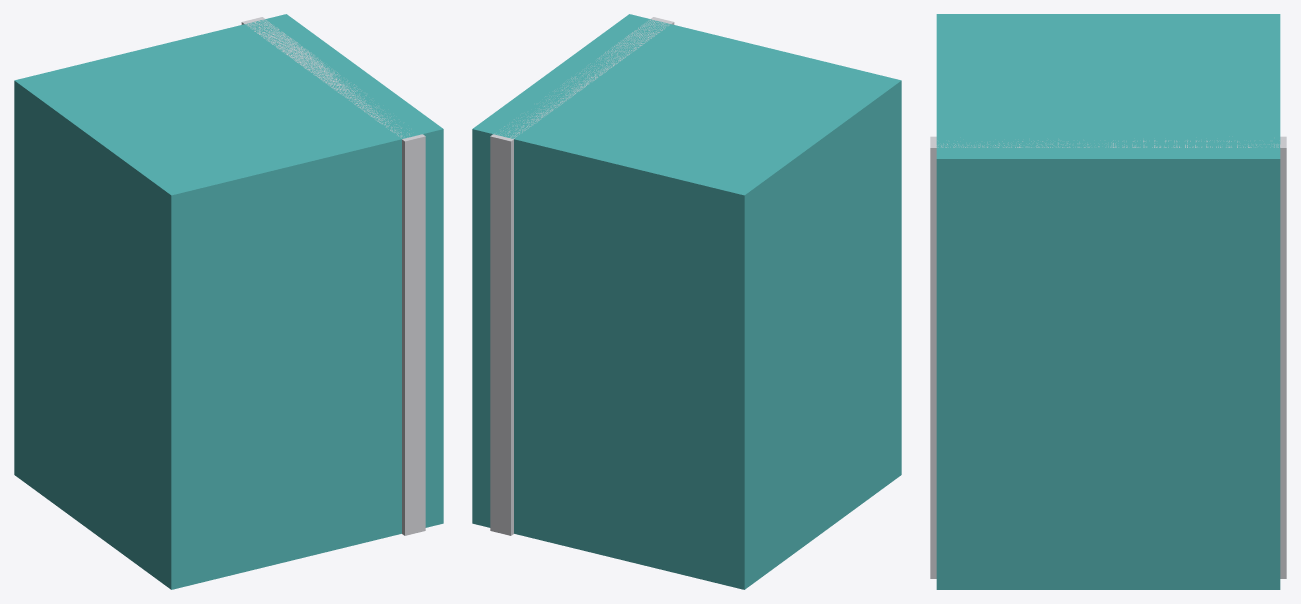
The model's file is yoga_coxa.glb.
3 renders of one model, left to right at view 1: azimuth 30°, elevation 25°; view 2: azimuth 150°, elevation 25°; view 3: azimuth 270°, elevation 25°, orthographic. The views are drawn at different scales.
Parts seen in each view (by area): view 1: yoga_coxa; view 2: yoga_coxa; view 3: yoga_coxa.
Boxes of the visible parts, x1,y1,x2,y2 form: yoga_coxa: (14, 14, 443, 589); yoga_coxa: (472, 14, 901, 589); yoga_coxa: (930, 14, 1286, 589).
Bounding box in the file's own units: 0.26 × 0.36 × 0.27.
